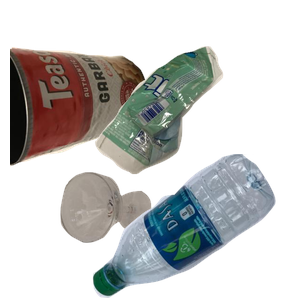glass: (58, 170, 202, 300)
metal: (10, 44, 151, 203)
plastic: (90, 154, 300, 300)
trash: (92, 44, 300, 211)
